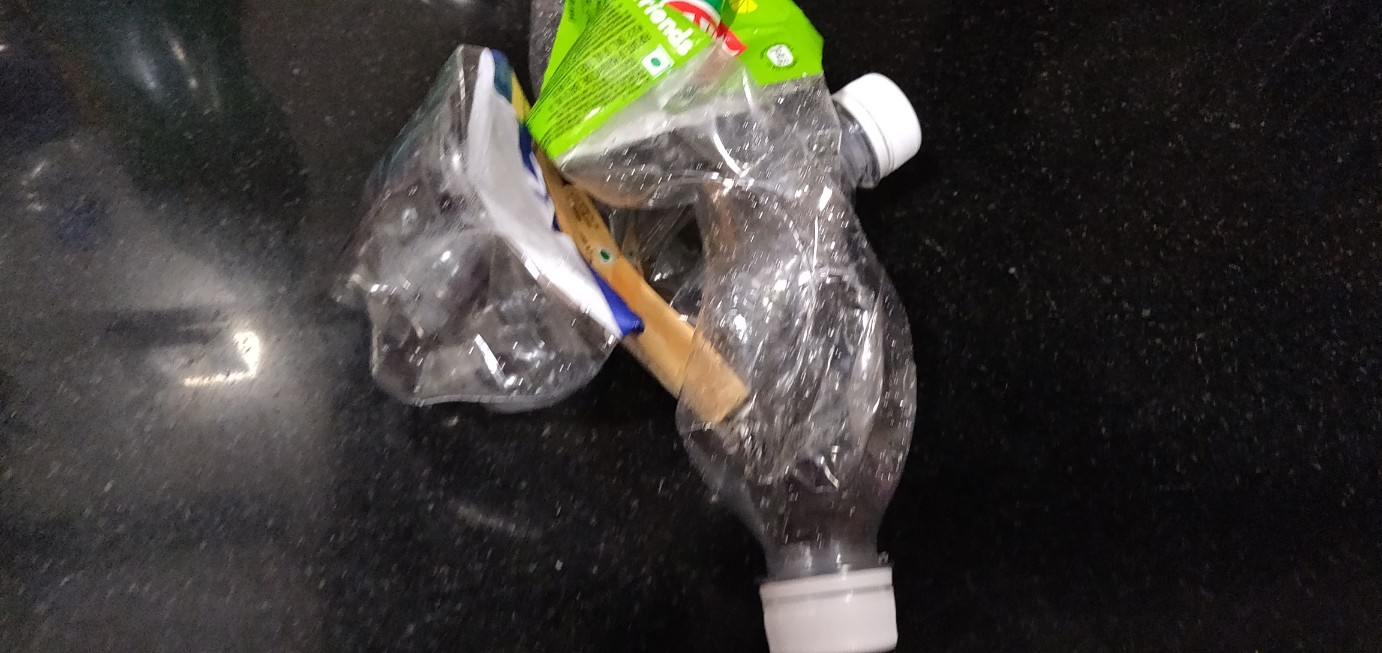Electronics: (498, 1, 948, 652)
